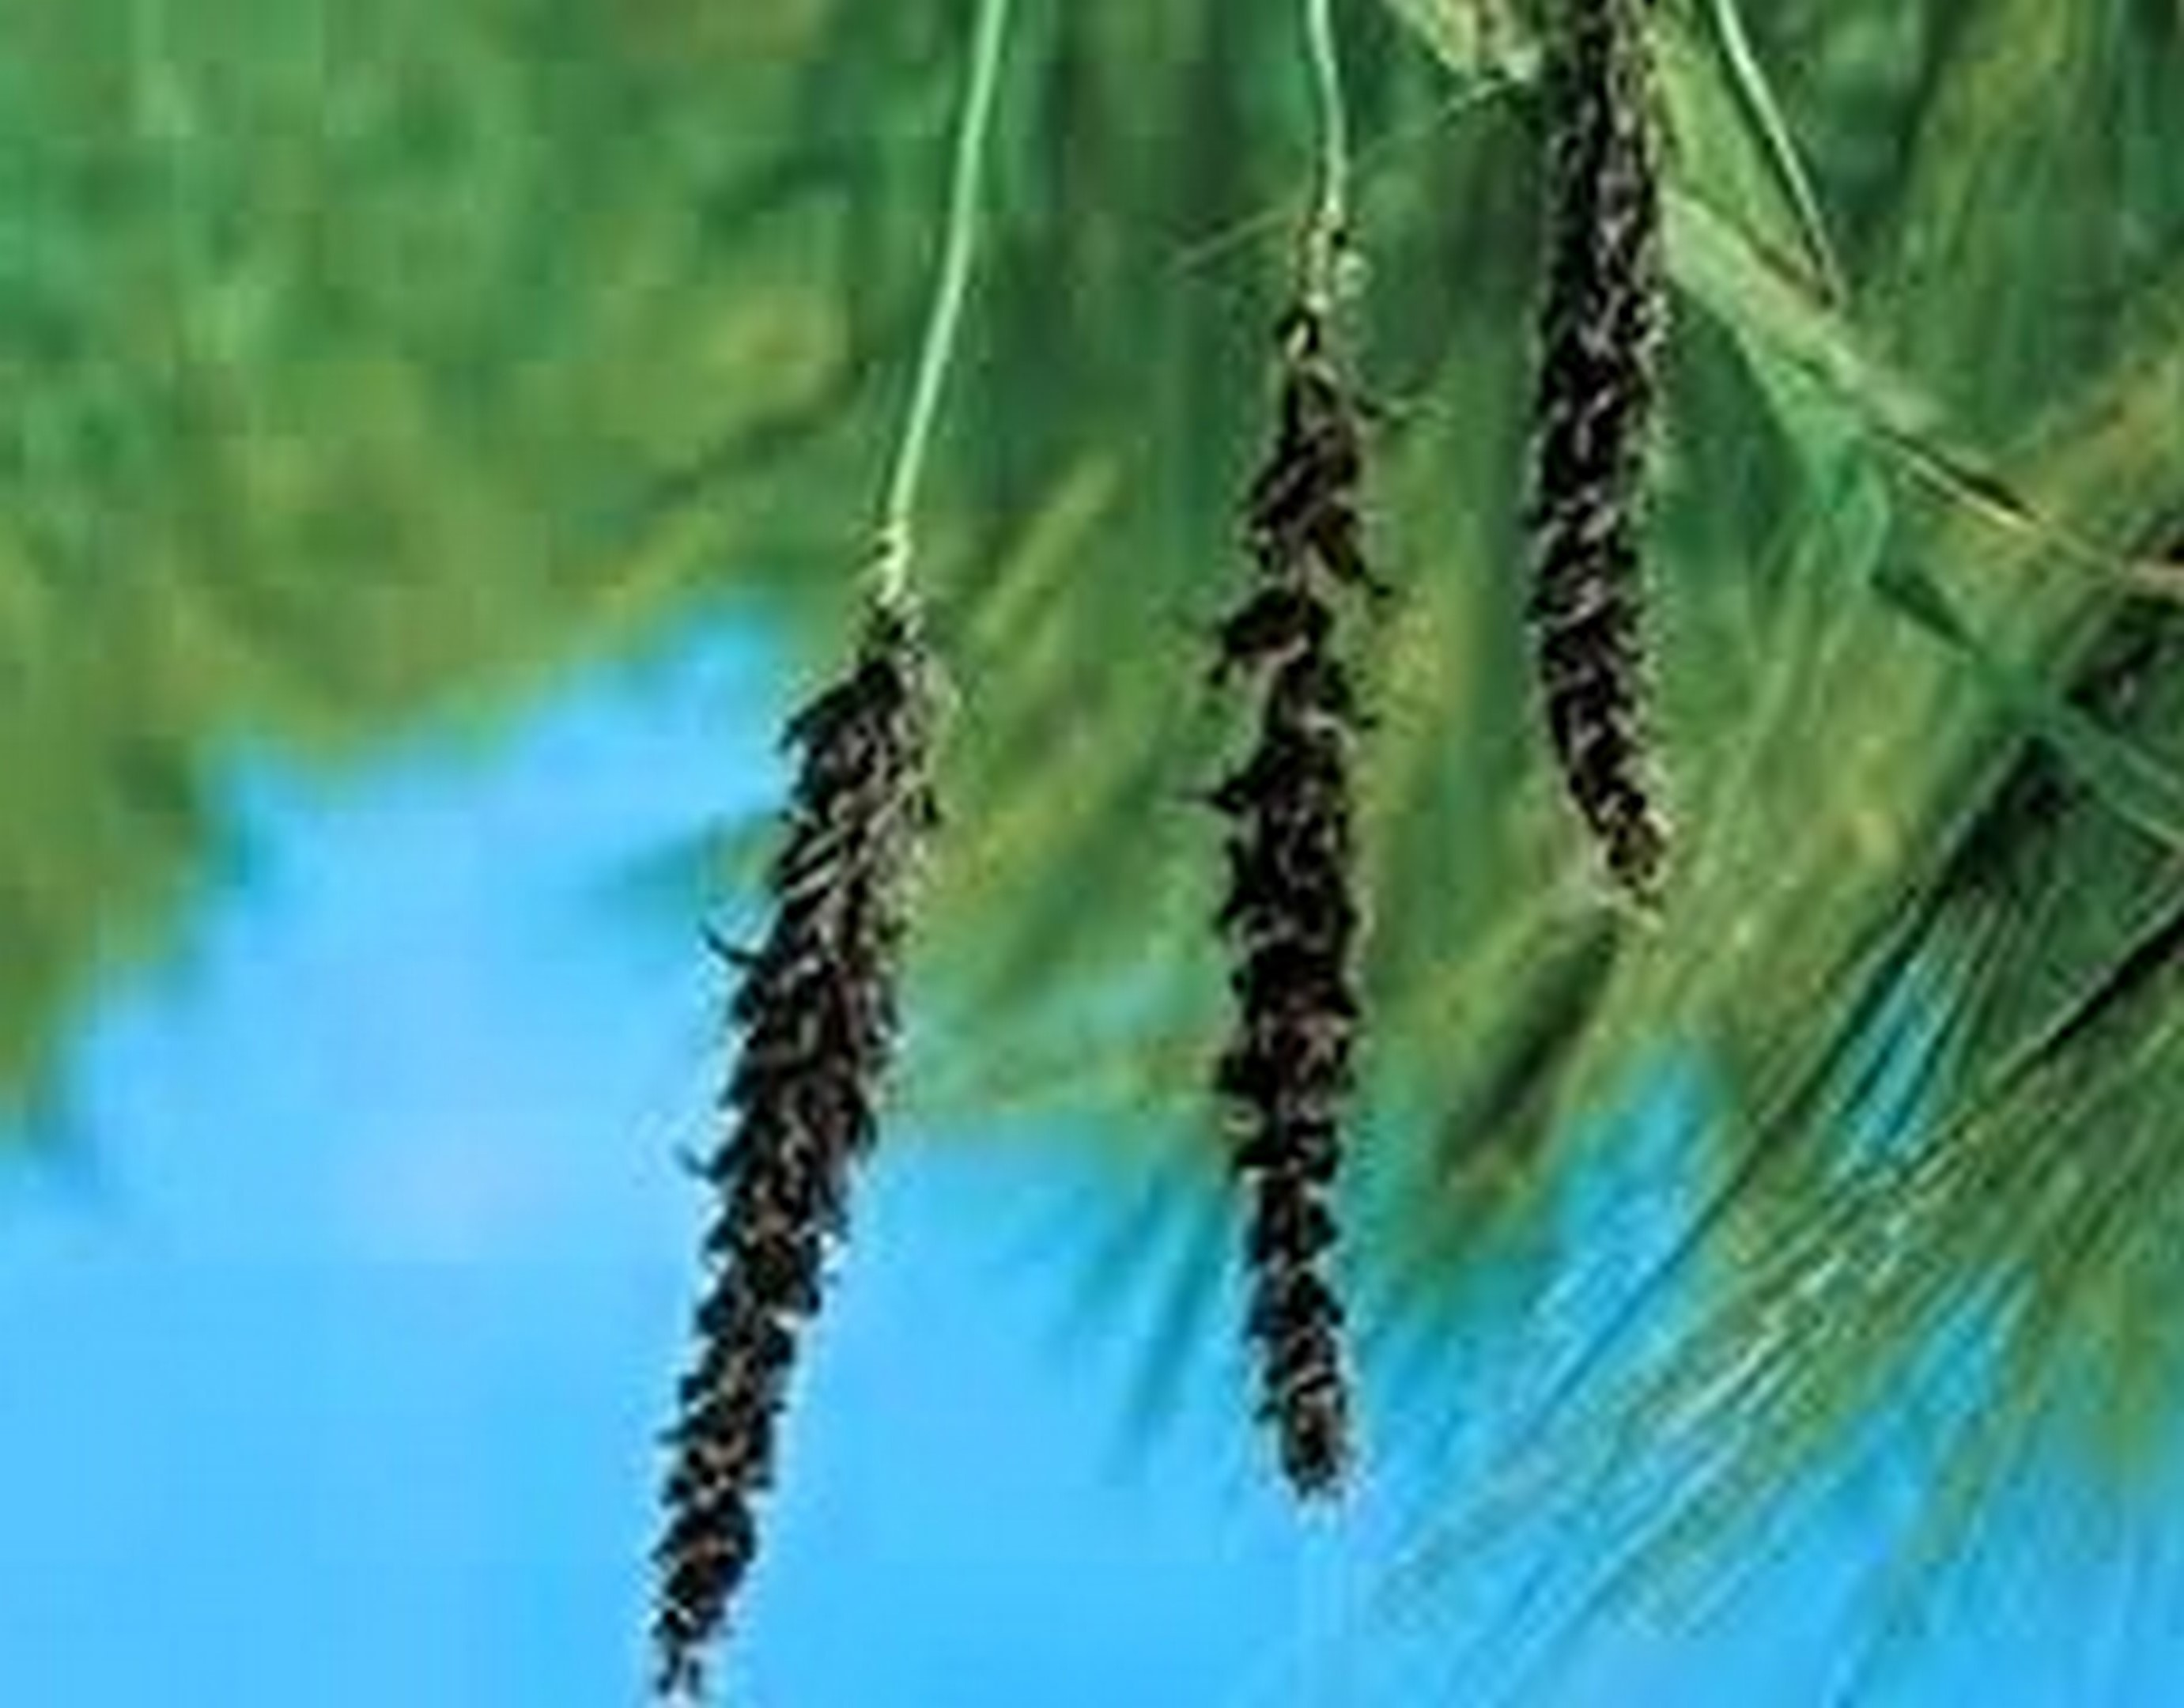Wheat Loose Smut: (594, 589, 1032, 1676), (1184, 332, 1422, 1563), (1505, 27, 1723, 928)
